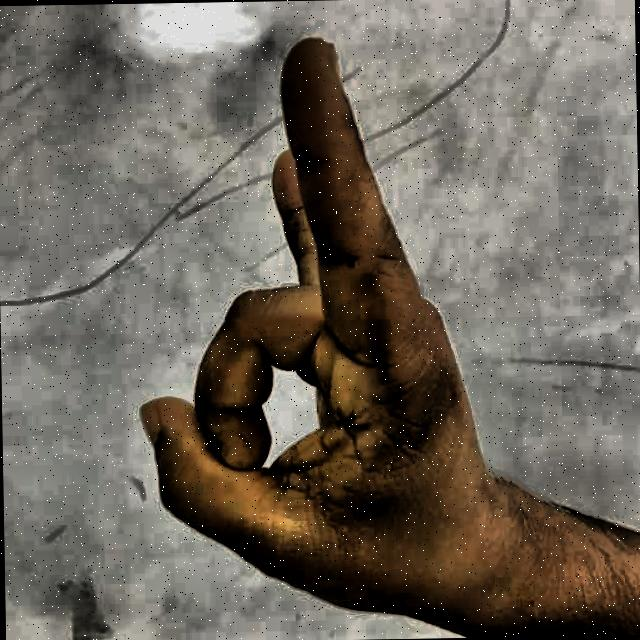Cha: (81, 18, 567, 640)
